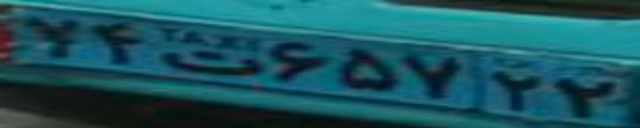2: (553, 76, 617, 118), (486, 69, 541, 110), (27, 18, 80, 58)
4: (89, 22, 144, 64)
5: (335, 47, 398, 91)
6: (266, 40, 331, 81)
7: (404, 55, 463, 97)
te: (157, 49, 262, 76)
